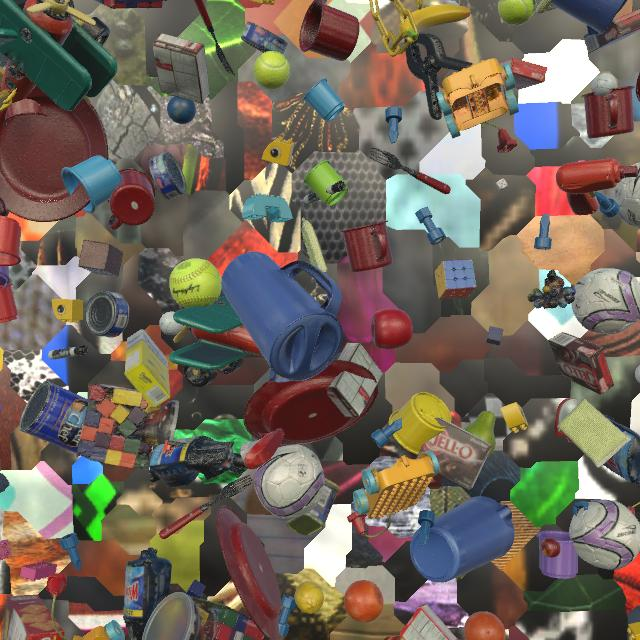ycb_002_master_chef_can: (19, 380, 90, 460), (322, 0, 327, 4)
ycb_003_cracker_box: (1, 595, 65, 640)
ycb_004_sugar_box: (124, 329, 170, 408)
ycb_007_tuna_fish_can: (85, 291, 130, 338), (149, 152, 187, 200), (241, 21, 288, 55)
ycb_008_pudding_box: (416, 417, 493, 490), (326, 342, 383, 418), (548, 332, 614, 395), (153, 33, 210, 104), (584, 8, 640, 54)
ycb_009_gelatin_box: (399, 603, 458, 640), (499, 58, 548, 90)
ycb_010_potted_meat_can: (286, 478, 340, 536)
ycb_011_banana: (398, 4, 470, 40)
ycb_013_apple: (371, 308, 413, 349)
ycb_014_lemon: (295, 581, 324, 614)
ycb_016_pear: (464, 411, 496, 457), (85, 96, 91, 103)
ycb_017_orange: (344, 580, 384, 623), (464, 611, 506, 640)
ycb_018_plum: (0, 198, 9, 217)
